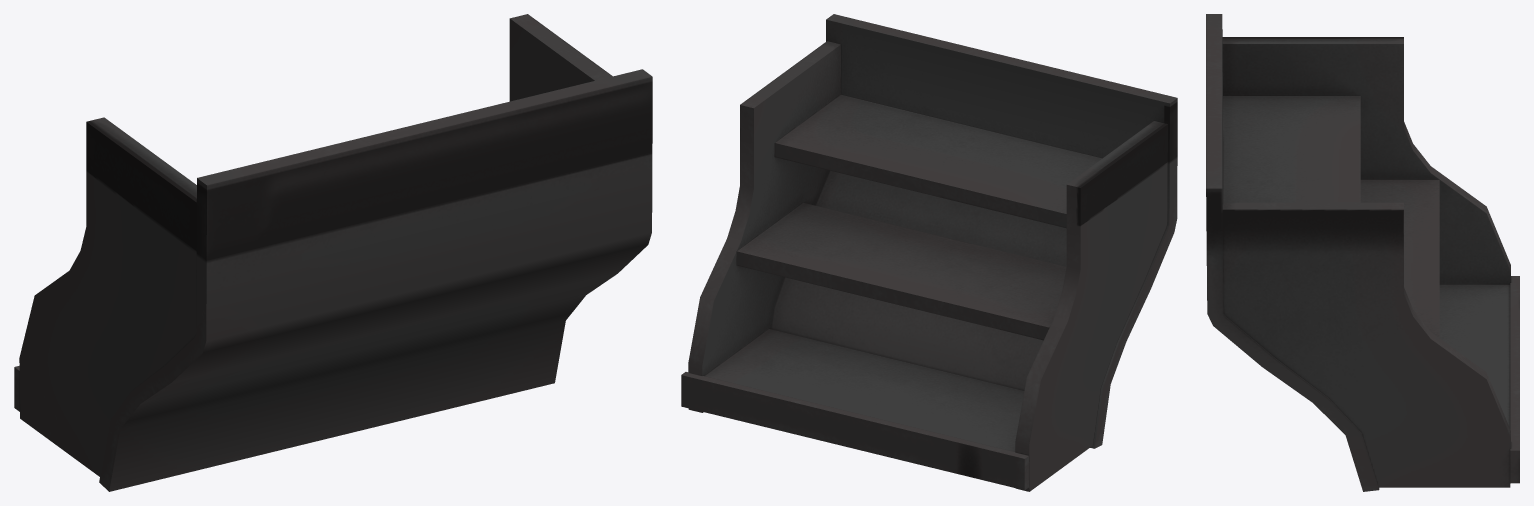
The model's file is SM_Small_Staircase.fbx.
The picture shows the model from 3 angles, left to right: view 1: azimuth 30°, elevation 25°; view 2: azimuth 150°, elevation 25°; view 3: azimuth 270°, elevation 25°; orthographic projection. The views are drawn at different scales.
Visible parts, largest first — view 1: SM_Small_Staircase; view 2: SM_Small_Staircase; view 3: SM_Small_Staircase.
Boxes of the visible parts, x1,y1,x2,y2 form: SM_Small_Staircase: (14, 14, 652, 491); SM_Small_Staircase: (681, 14, 1177, 491); SM_Small_Staircase: (1206, 14, 1519, 491).
Size of the model in its own units: 73.58 by 55.64 by 59.36.
1 material, 1 textured.
